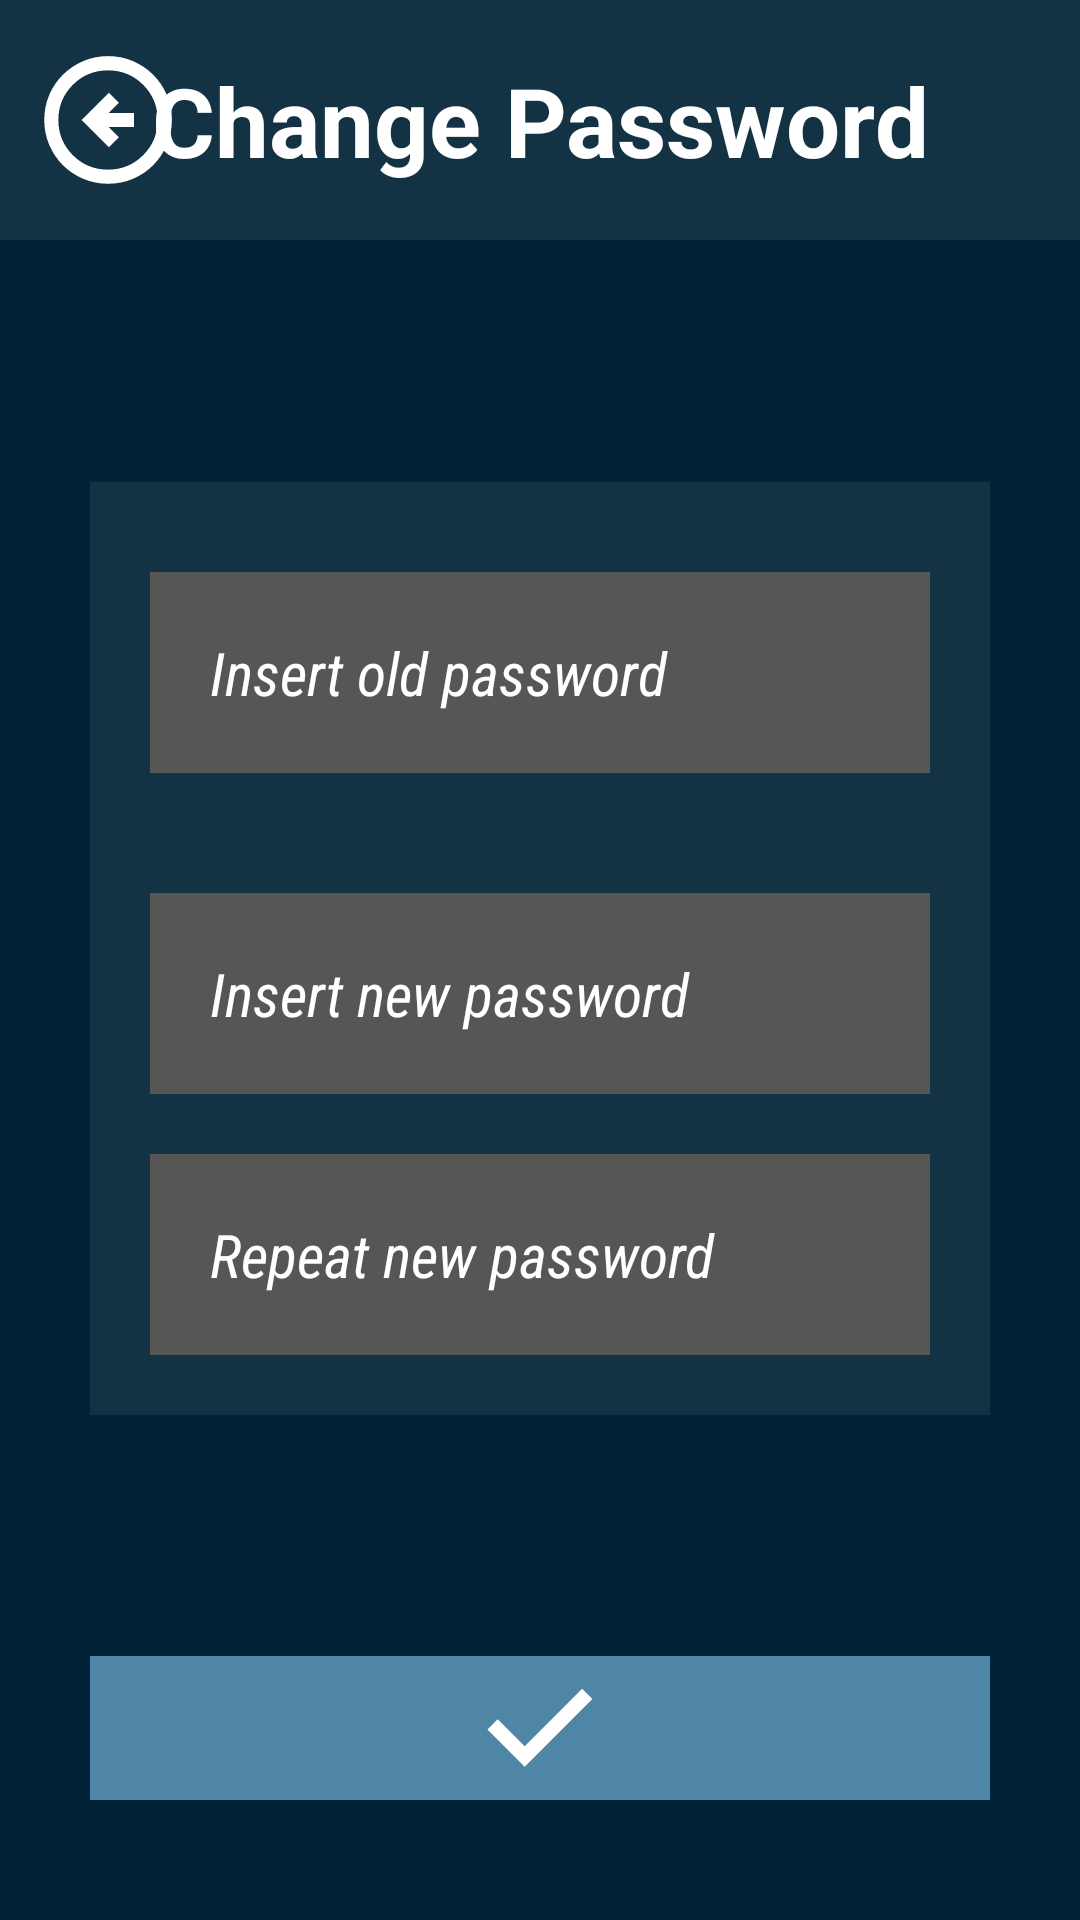

Icons on this 1080 x 1920 Android screen, each with its box as (x1, y1, x2, y2):
arrow back: (44, 56, 212, 184)
